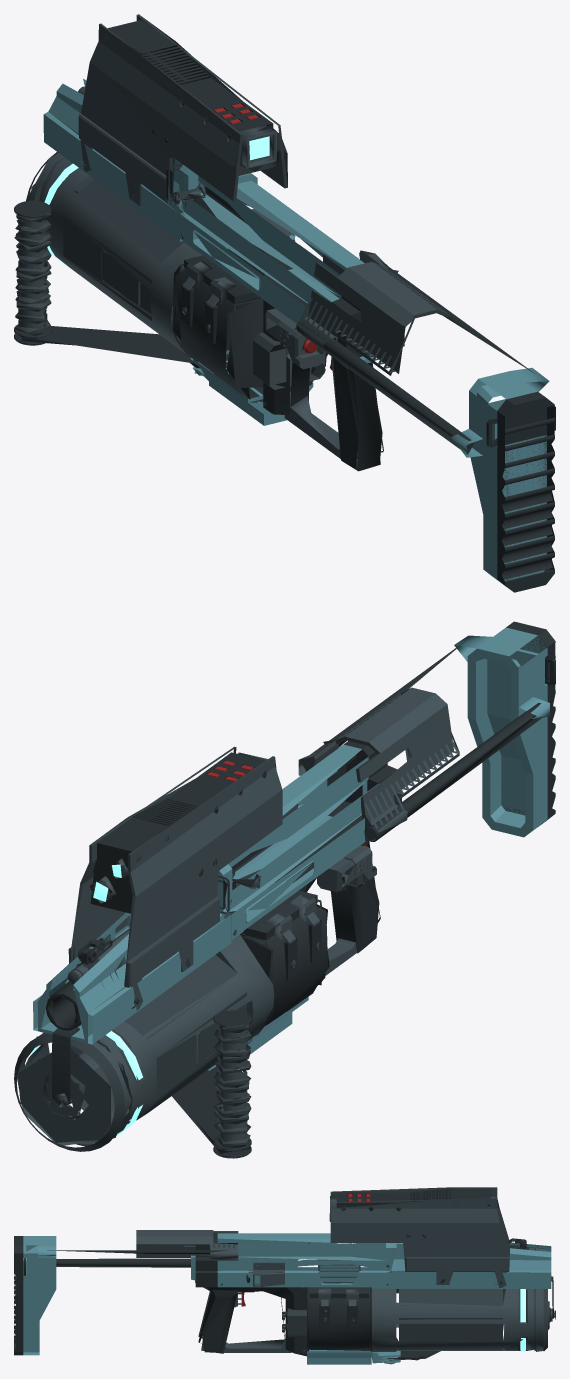
File: wpn_gl.glb
3 views of the same model, one above another, from view 1: azimuth 30°, elevation 25°; view 2: azimuth 150°, elevation 25°; view 3: azimuth 270°, elevation 25° (orthographic). The views are drawn at different scales.
Visible parts, largest first — view 1: Object_10, Object_13, Object_4, Object_11, Object_14, Object_5, Object_36; view 2: Object_10, Object_4, Object_13, Object_11, Object_5, Object_14, Object_36; view 3: Object_10, Object_4, Object_13, Object_11, Object_5, Object_14, Object_36.
Part boxes in pixels (x1,y1,x2,y2): Object_10: [17, 15, 448, 461]; Object_13: [14, 20, 555, 592]; Object_4: [43, 78, 549, 585]; Object_11: [14, 14, 448, 405]; Object_14: [14, 35, 555, 579]; Object_5: [44, 83, 505, 410]; Object_36: [44, 136, 269, 267]; Object_10: [17, 687, 459, 1145]; Object_4: [33, 627, 549, 1065]; Object_13: [46, 621, 555, 1158]; Object_11: [14, 690, 459, 1151]; Object_5: [33, 659, 525, 1070]; Object_14: [53, 657, 555, 1156]; Object_36: [31, 864, 142, 1136]; Object_10: [136, 1187, 554, 1352]; Object_4: [23, 1233, 551, 1364]; Object_13: [14, 1188, 553, 1360]; Object_11: [136, 1187, 555, 1352]; Object_5: [24, 1238, 551, 1362]; Object_14: [15, 1202, 526, 1360]; Object_36: [520, 1289, 525, 1351].
Size of the model in its own units: 3.03 by 4.69 by 13.68.
